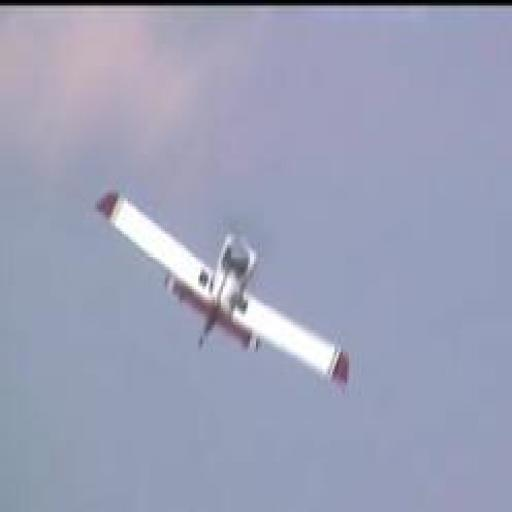aircraft: (93, 187, 353, 388)
